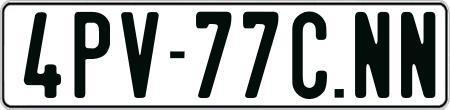4: (22, 11, 64, 97)
7: (243, 9, 279, 100), (193, 9, 230, 97)
C: (289, 9, 329, 98)
N: (353, 10, 390, 100), (398, 12, 430, 98)
P: (75, 11, 112, 103)
V: (121, 11, 162, 103)
